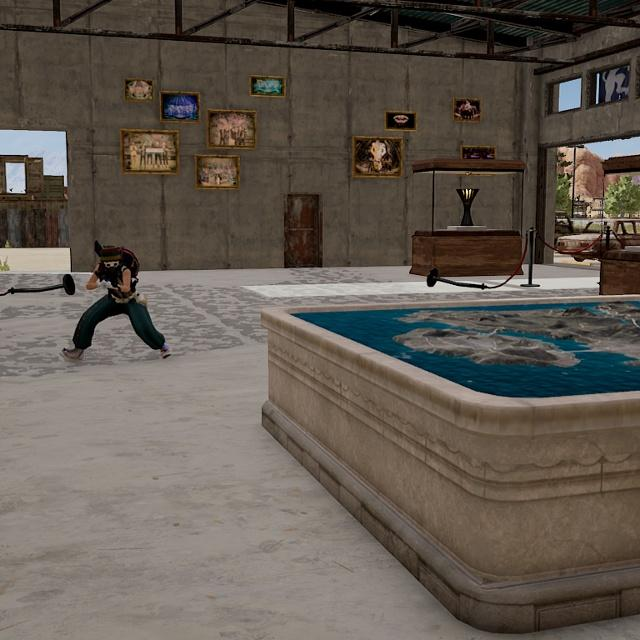head: (98, 243, 124, 277)
people: (60, 242, 172, 359)
